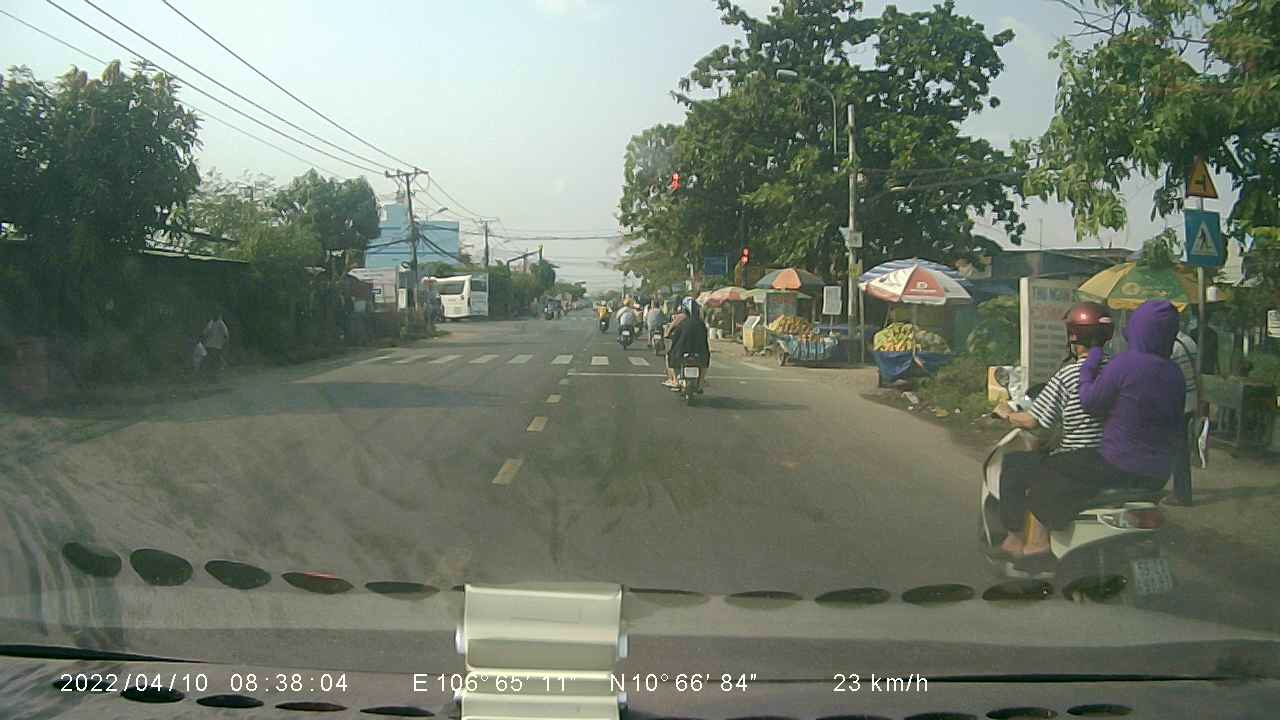Nguoi di bo: (1179, 205, 1228, 264)
